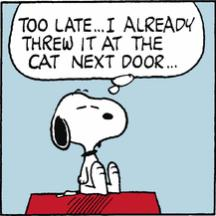snoopy: (50, 89, 128, 198)
